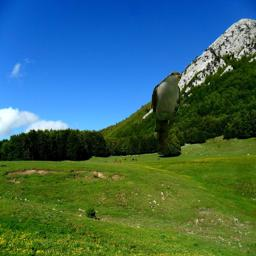Cuckoo: (151, 71, 183, 145)
